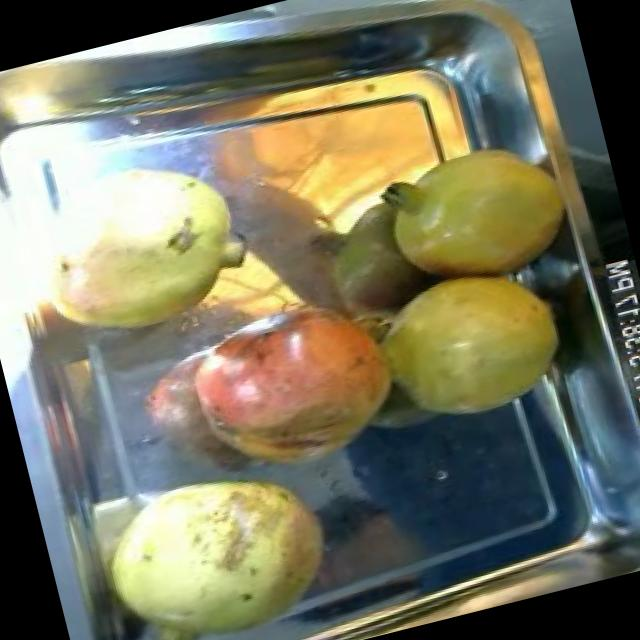fruit: (0, 122, 277, 372), (162, 265, 426, 493), (75, 436, 362, 640), (352, 247, 584, 443), (356, 118, 587, 312)
